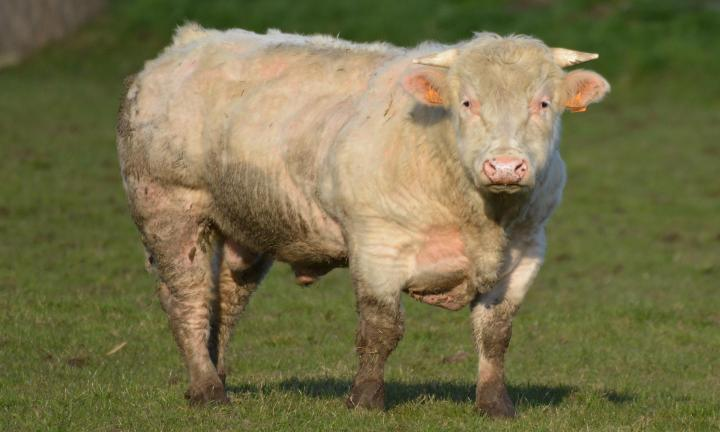Charolais: (117, 24, 609, 416)
